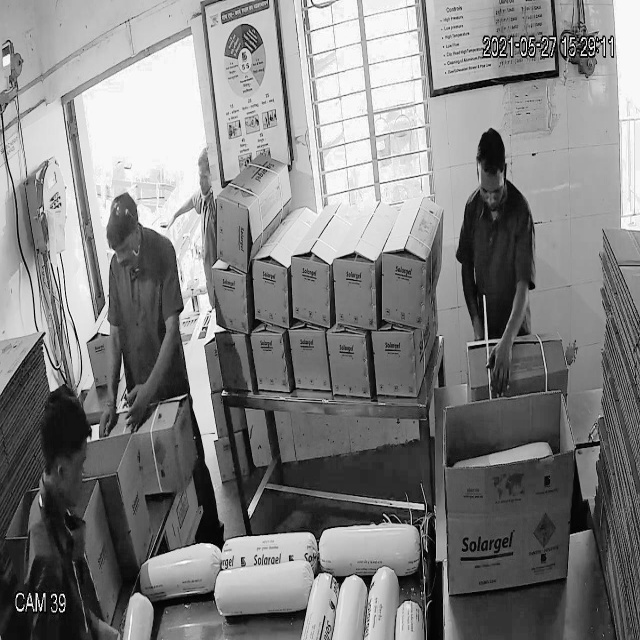Sin_gafas: (475, 171, 508, 206), (106, 236, 142, 263)
